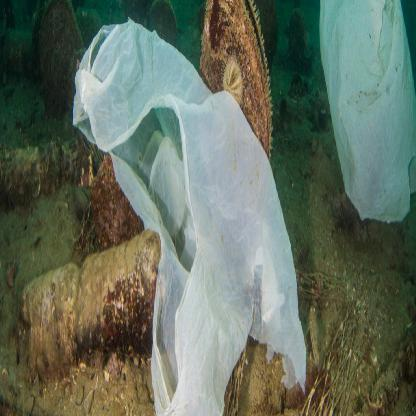Rác: (74, 9, 318, 415)
